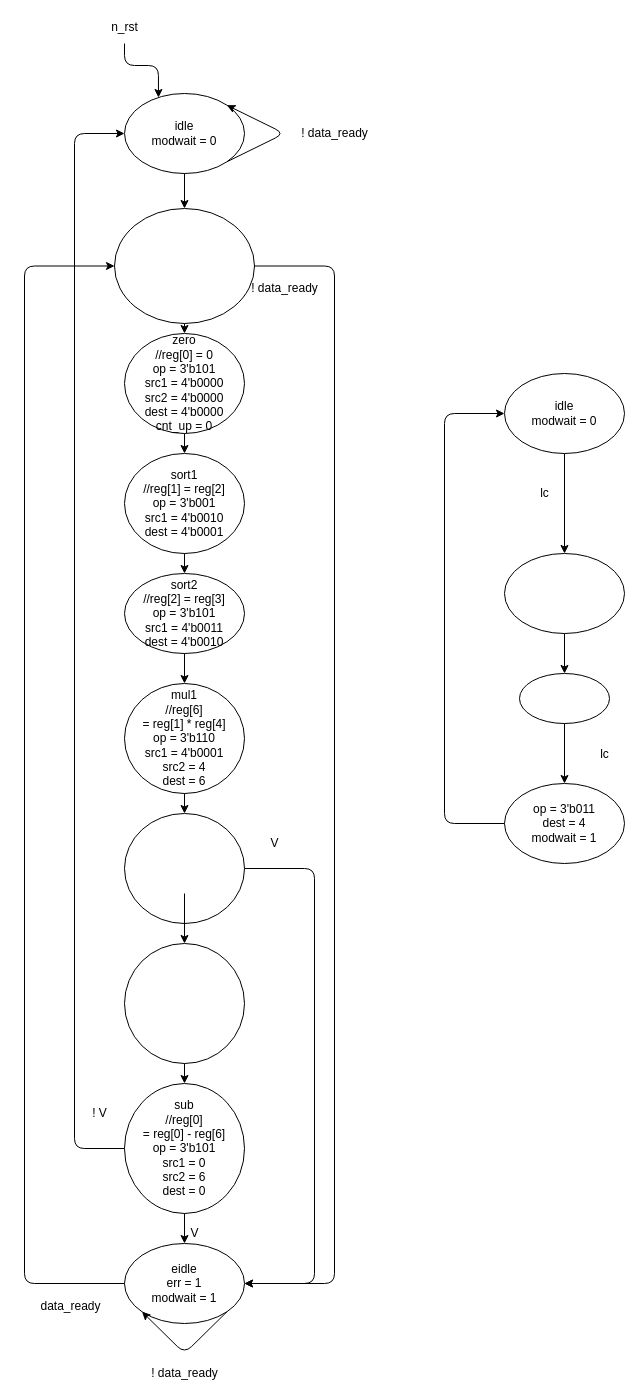
The diagram is 642 pixels wide and 1400 high, and some of its shapes have lost their labels. Here are the shapes that lost their labels. From the top down, the centre of each, then its label:
the point at 184,266: strore //reg[3] = data op = 3'b010 dest = 4'b0011 err = 0 modwait = 1 cnt_up = 1
the point at 564,593: op =3'b011 dest = 4
the point at 564,698: modwait = 0
the point at 184,868: add //reg[0] = reg[0] + reg[6] op = 3'b100 src1 = 0 src2 = 6 dest = 0
the point at 184,1003: mul2 //reg[6] =reg[2] *reg[5] op = 3'b110 src1 = 2 src2 = 5 dest = 6
